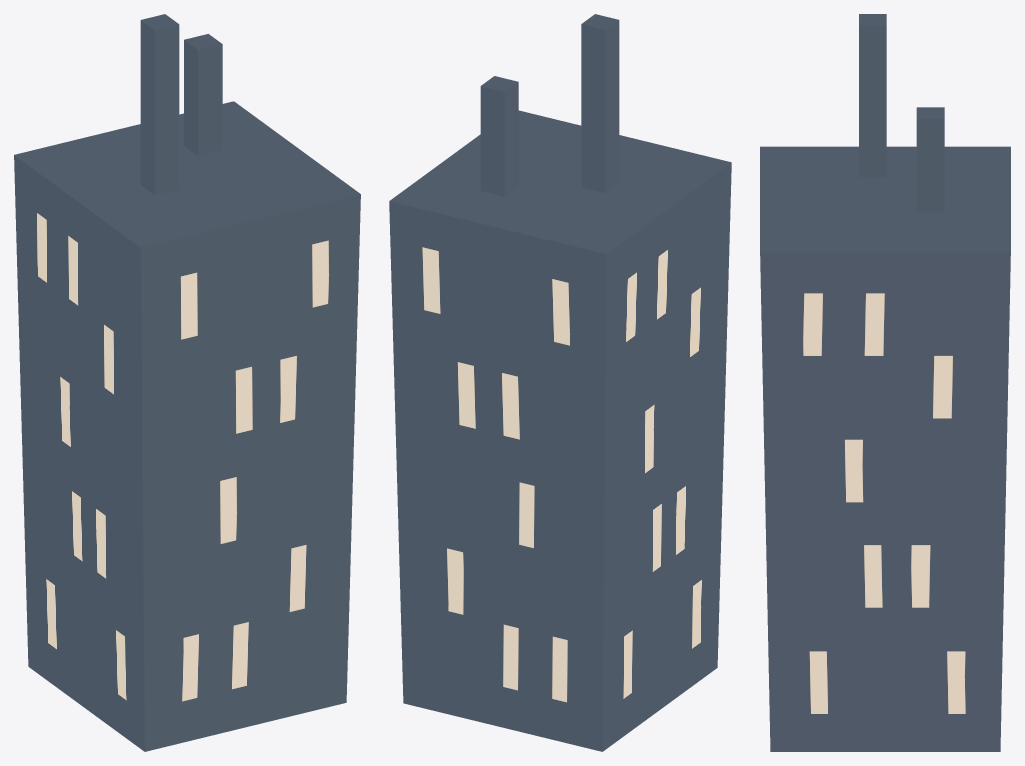
The model's file is city.fbx.
3 renders of one model, left to right at view 1: azimuth 30°, elevation 25°; view 2: azimuth 150°, elevation 25°; view 3: azimuth 270°, elevation 25°, orthographic.
Parts seen in each view (by area): view 1: city; view 2: city; view 3: city.
Boxes of the visible parts, x1,y1,x2,y2 form: city: (14, 14, 360, 751); city: (389, 14, 731, 751); city: (760, 14, 1010, 751).
Bounding box in the file's own units: 0.4656 × 1.37 × 0.4656.
